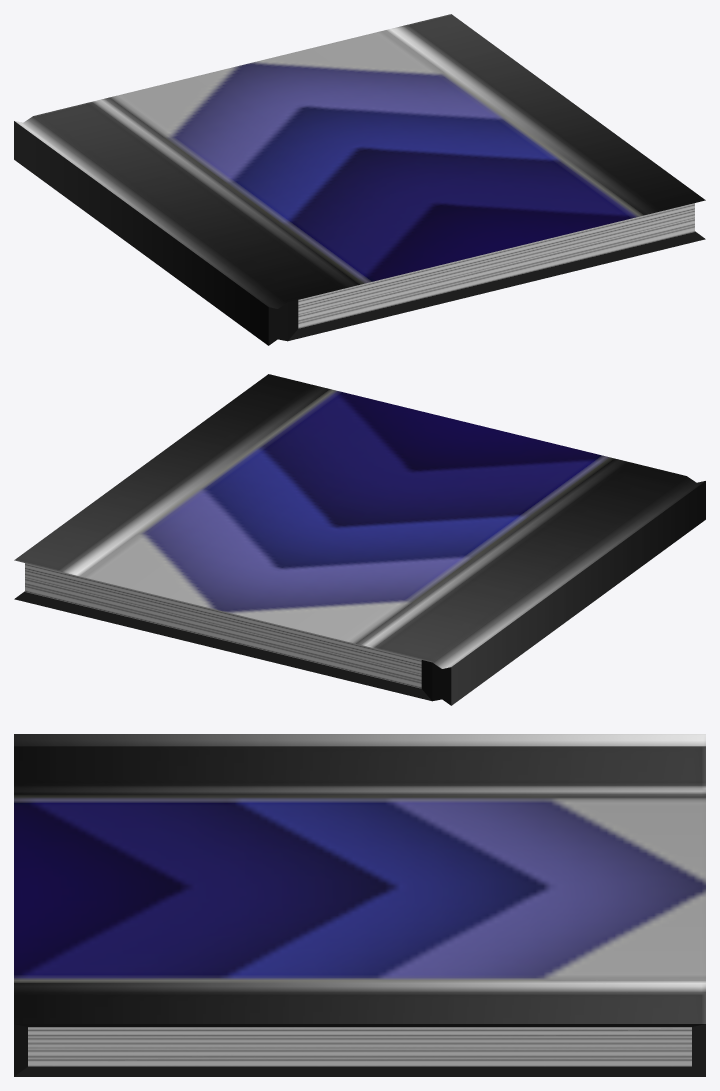
Rendered from Coffeetable_book_E.FBX.
The picture shows the model from 3 angles, top to bottom: view 1: azimuth 30°, elevation 25°; view 2: azimuth 150°, elevation 25°; view 3: azimuth 270°, elevation 25°; orthographic projection. The views are drawn at different scales.
Visible parts, largest first — view 1: Coffee_Table_Book; view 2: Coffee_Table_Book; view 3: Coffee_Table_Book.
Part boxes in pixels (x1,y1,x2,y2): Coffee_Table_Book: [14, 14, 705, 345]; Coffee_Table_Book: [14, 374, 705, 705]; Coffee_Table_Book: [14, 734, 705, 1076].
Bounding box in the file's own units: 94.24 × 8 × 95.
